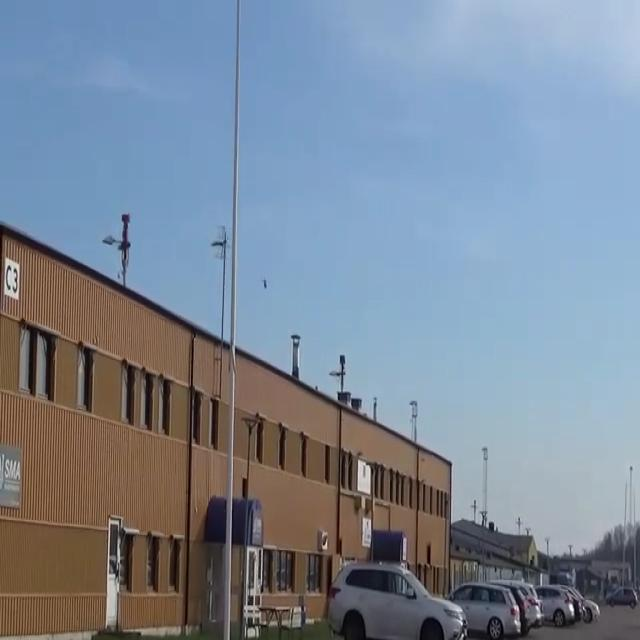Helicopter: (255, 264, 279, 300)
